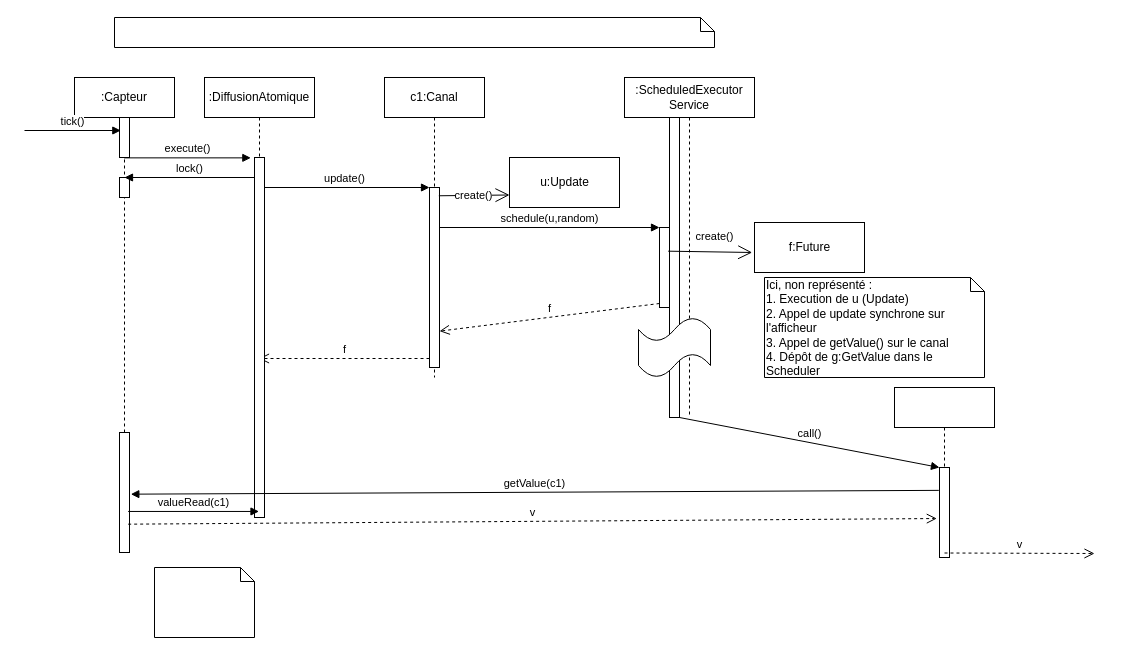
This 1122x655 diagram has some shape labels left out. Each missing label, with the centre of its shape:
"g:GetValue" goes at pixel 944 469.
"M3, séquence appel Update avec Strategy" goes at pixel 414 32.
"unlock non représenté" goes at pixel 204 602.
